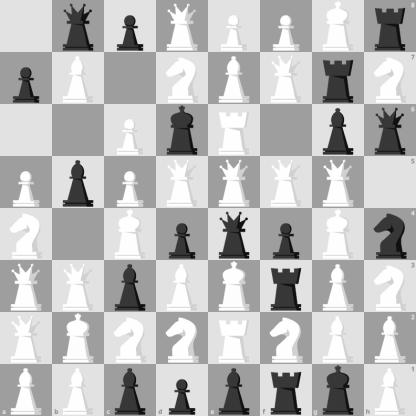B: (0, 364, 52, 416), (52, 364, 104, 416), (364, 312, 416, 364), (364, 364, 416, 416), (53, 53, 104, 104), (157, 261, 208, 312), (209, 53, 260, 104), (313, 261, 364, 312), (313, 313, 364, 364)
K: (53, 313, 104, 364), (105, 209, 156, 260), (209, 261, 260, 312), (313, 1, 364, 52), (313, 209, 364, 260)
N: (364, 52, 416, 104), (364, 260, 416, 312), (1, 209, 52, 260), (105, 313, 156, 364), (157, 53, 208, 104), (157, 313, 208, 364), (261, 313, 312, 364)
P: (1, 157, 52, 208), (105, 105, 156, 156), (105, 157, 156, 208), (209, 1, 260, 52), (261, 1, 312, 52)
Q: (1, 261, 52, 312), (1, 313, 52, 364), (53, 261, 104, 312), (157, 1, 208, 52), (157, 157, 208, 208), (209, 157, 260, 208), (261, 53, 312, 104), (261, 157, 312, 208), (313, 157, 364, 208)
R: (209, 105, 260, 156), (209, 313, 260, 364)
b: (104, 364, 156, 416), (209, 364, 260, 416), (53, 157, 104, 208), (105, 261, 156, 312), (313, 105, 364, 156)
board: (0, 0, 415, 415)
k: (312, 364, 364, 416), (157, 105, 208, 156)
n: (364, 209, 416, 260)
p: (156, 364, 209, 416), (1, 53, 52, 104), (105, 1, 156, 52), (157, 209, 208, 260), (261, 209, 312, 260)
q: (364, 104, 416, 156), (53, 1, 104, 52), (209, 209, 260, 260)
r: (260, 364, 312, 416), (364, 0, 416, 52), (261, 261, 312, 312), (313, 53, 364, 104)
